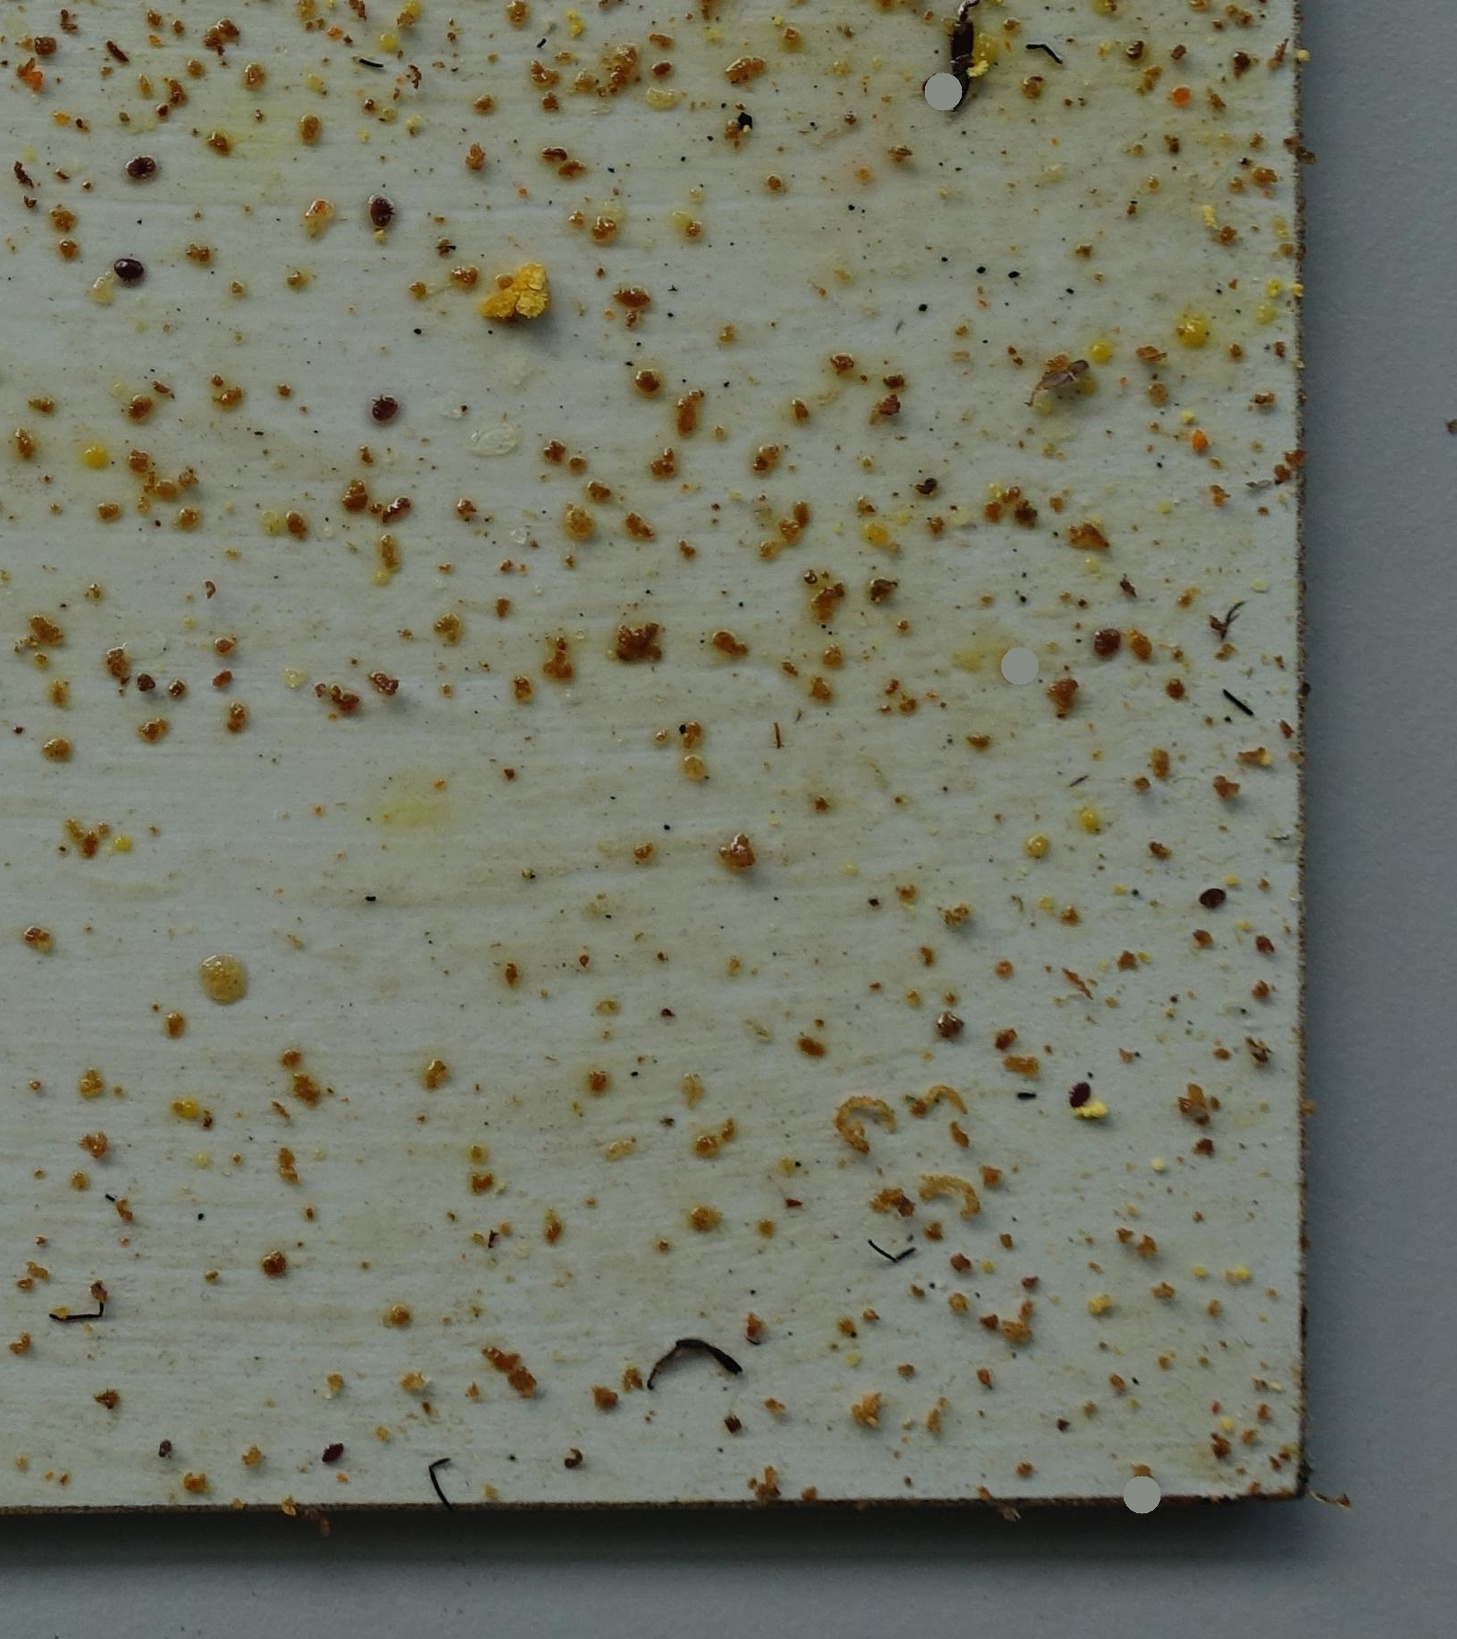Varroa: (319, 1439, 352, 1472), (368, 196, 391, 224), (1091, 634, 1114, 658), (1202, 885, 1224, 910), (1070, 1080, 1091, 1104), (373, 394, 392, 418), (120, 257, 139, 280), (932, 73, 944, 86), (136, 167, 148, 176)
